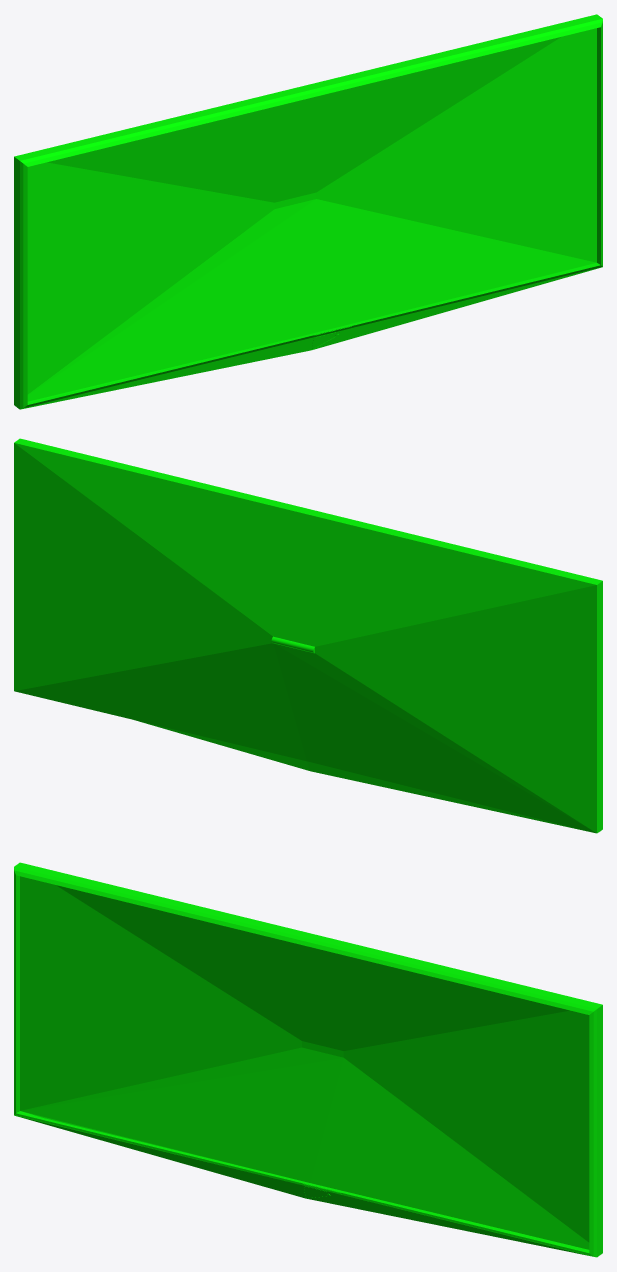
3 views of the same model, one above another, from view 1: azimuth 30°, elevation 25°; view 2: azimuth 150°, elevation 25°; view 3: azimuth 330°, elevation 25° (orthographic).
Size of the model in its own units: 1.87 by 0.799 by 0.1179.
